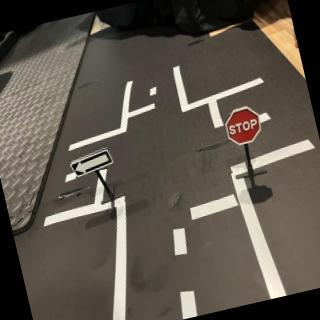sign_oneway_left: (69, 148, 118, 180)
sign_stop: (223, 106, 265, 148)
